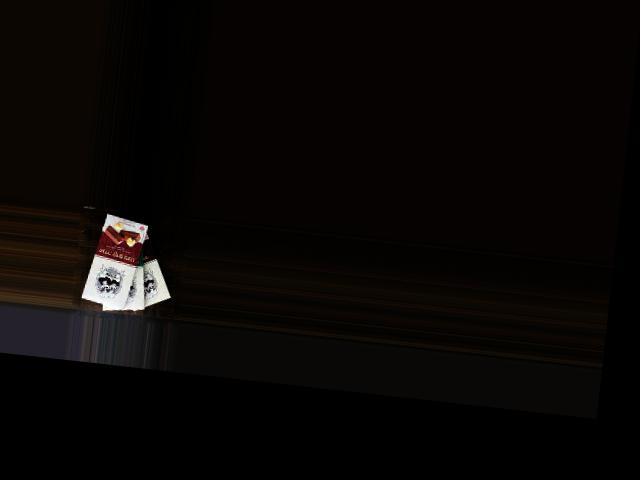chocolate: (109, 215, 180, 317)
